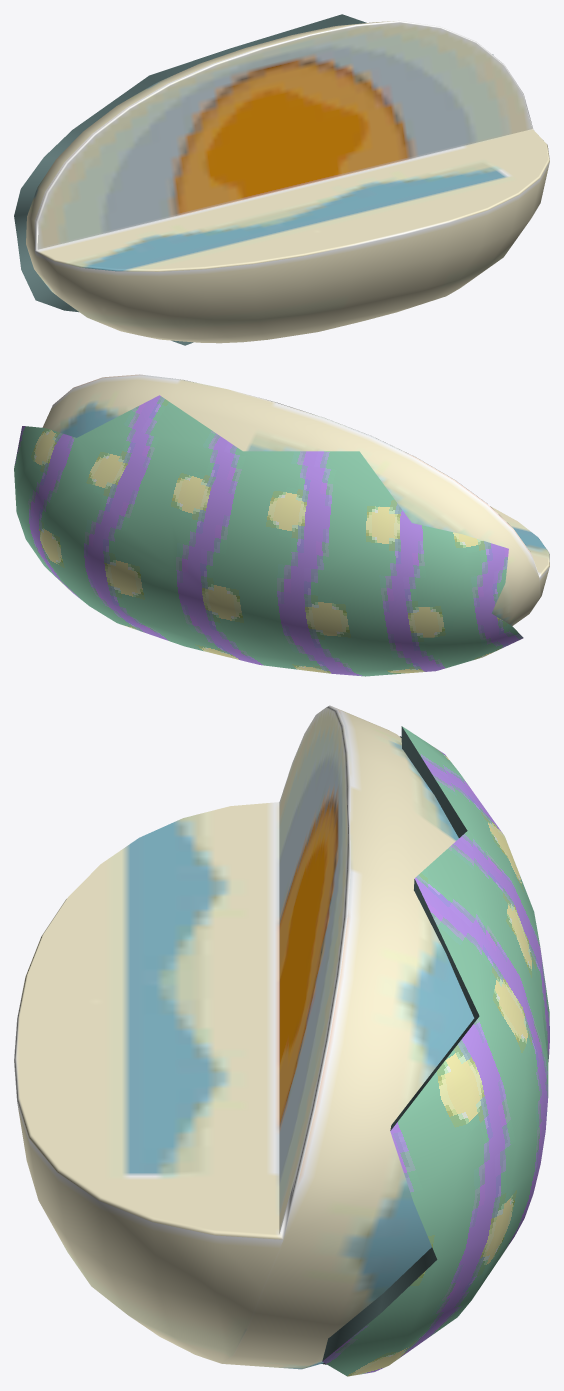
Rendered from int_egg_chairL.dae.
3 views of the same model, one above another, from view 1: azimuth 30°, elevation 25°; view 2: azimuth 150°, elevation 25°; view 3: azimuth 270°, elevation 25° (orthographic). The views are drawn at different scales.
Parts seen in each view (by area): view 1: int_egg_chairL; view 2: int_egg_chairL; view 3: int_egg_chairL.
Part boxes in pixels (left/top/right/bottom): int_egg_chairL: left=14, top=14, right=549, bottom=345; int_egg_chairL: left=14, top=374, right=549, bottom=676; int_egg_chairL: left=14, top=705, right=549, bottom=1376.
Size of the model in its own units: 58.57 by 30.54 by 30.46.
Materials: 2 (2 with a texture image).
